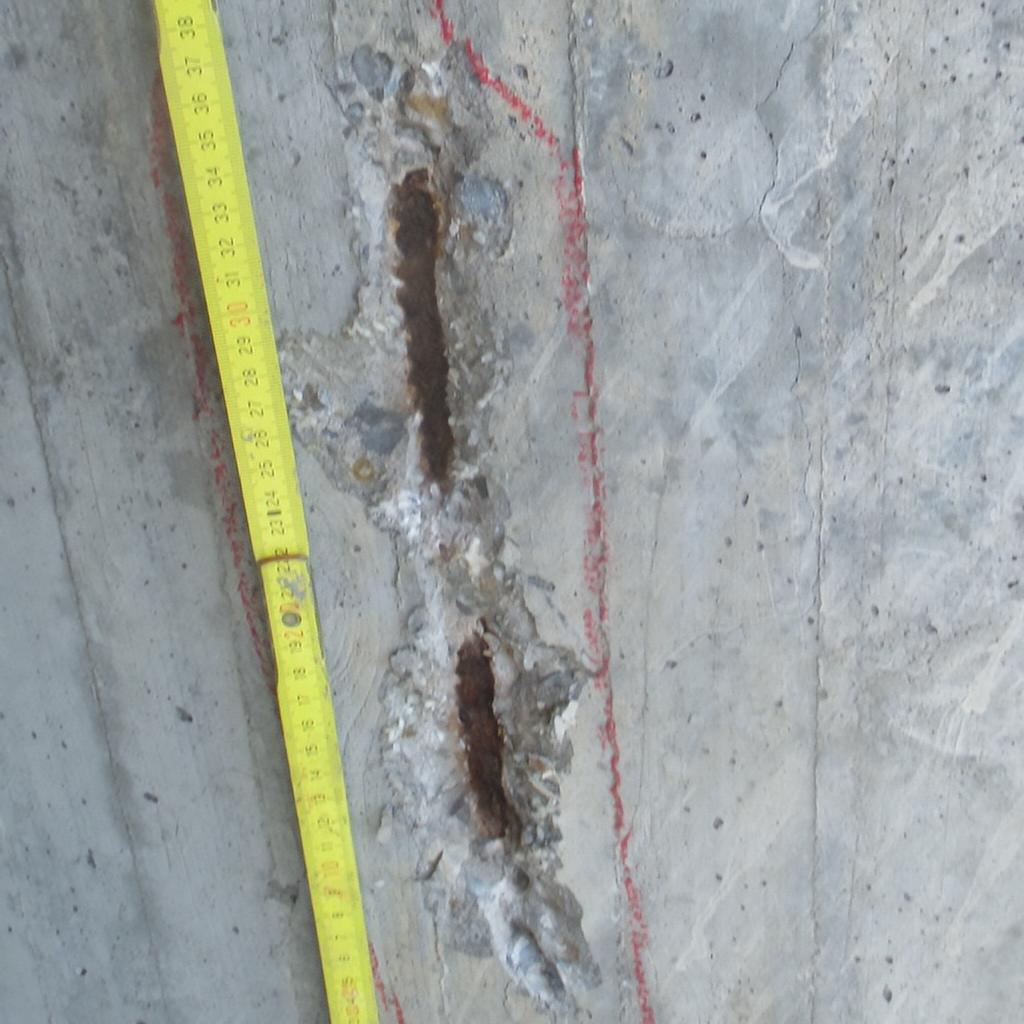exposed_rebar: (390, 170, 454, 491), (456, 634, 520, 839)
spalling: (280, 2, 600, 1024)
